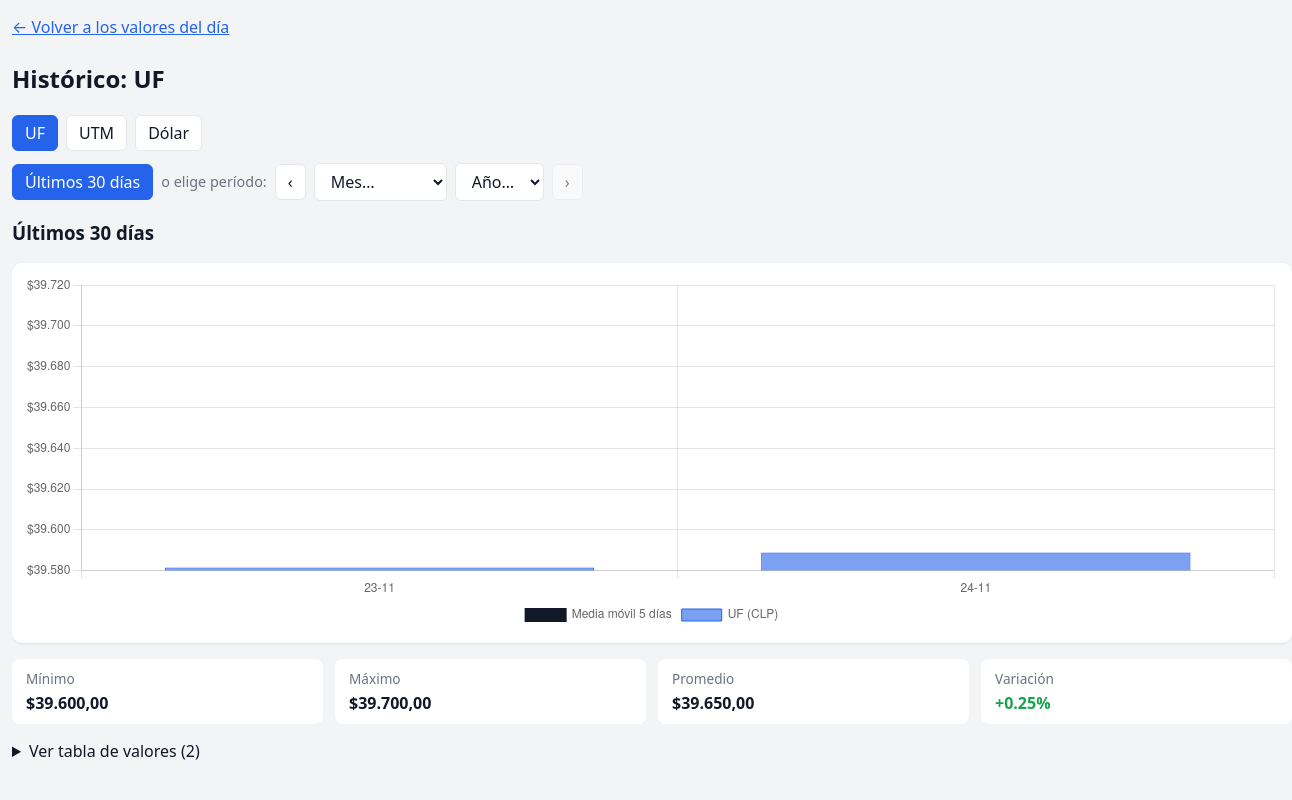
Scenario: HistoricoPage › cambia de mes y año y filtra la serie
expect the picture named "Gráfico de UF" is shown: met, box [12,263,1291,643]
Select "2025" in the dropdown named "Año": (499, 182) [455,163,544,201]
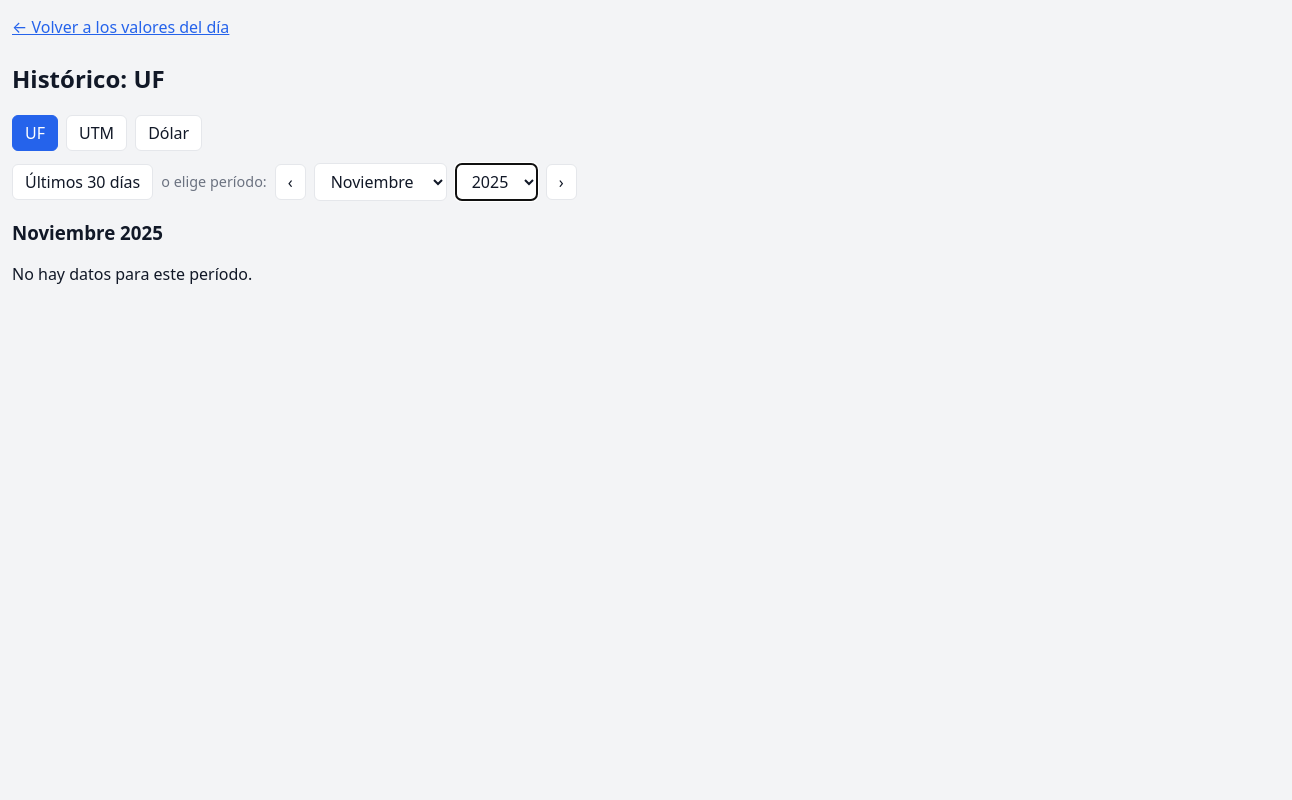
Select "Marzo" in the dropdown named "Mes": (380, 182) [314,163,447,201]
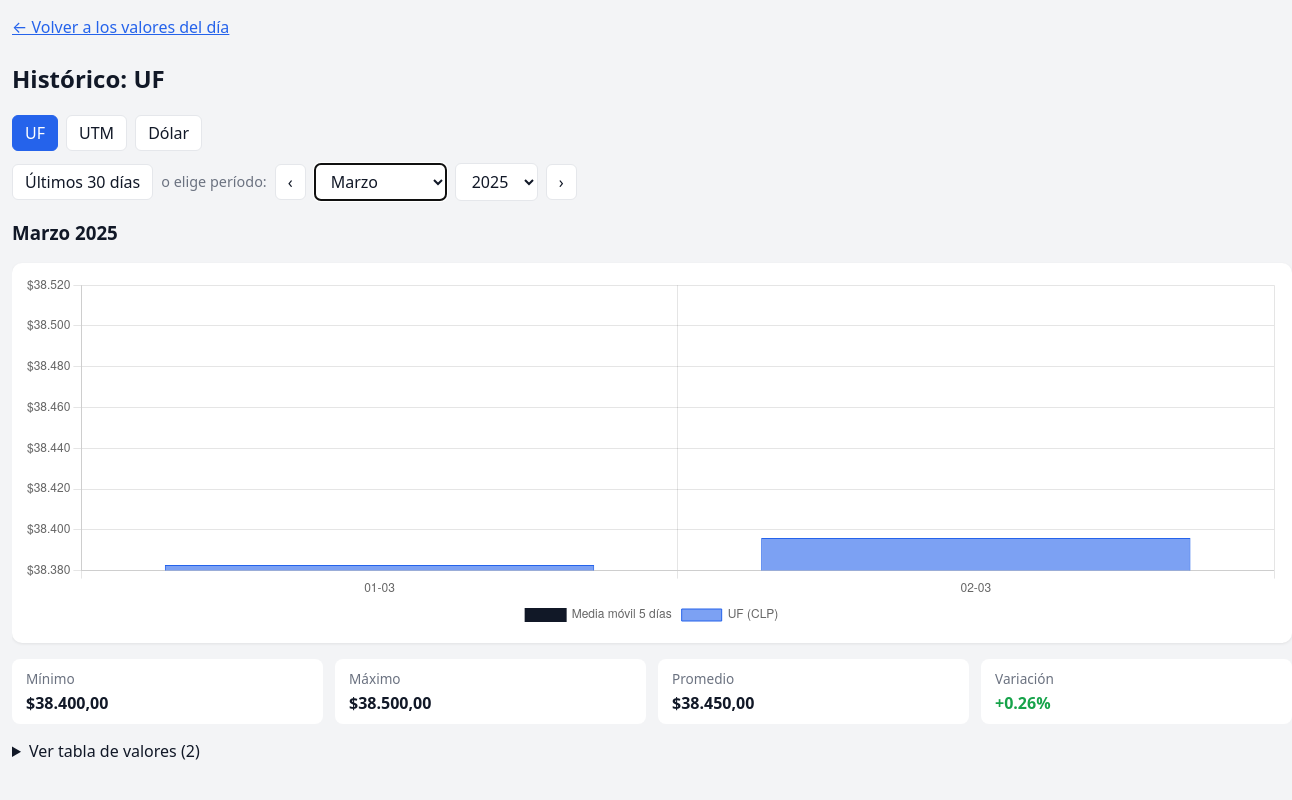
expect the heading "Marzo 2025" is shown: met, box [12,220,118,245]
Click the button named "Mes siguiente": (561, 182) [546,164,577,200]
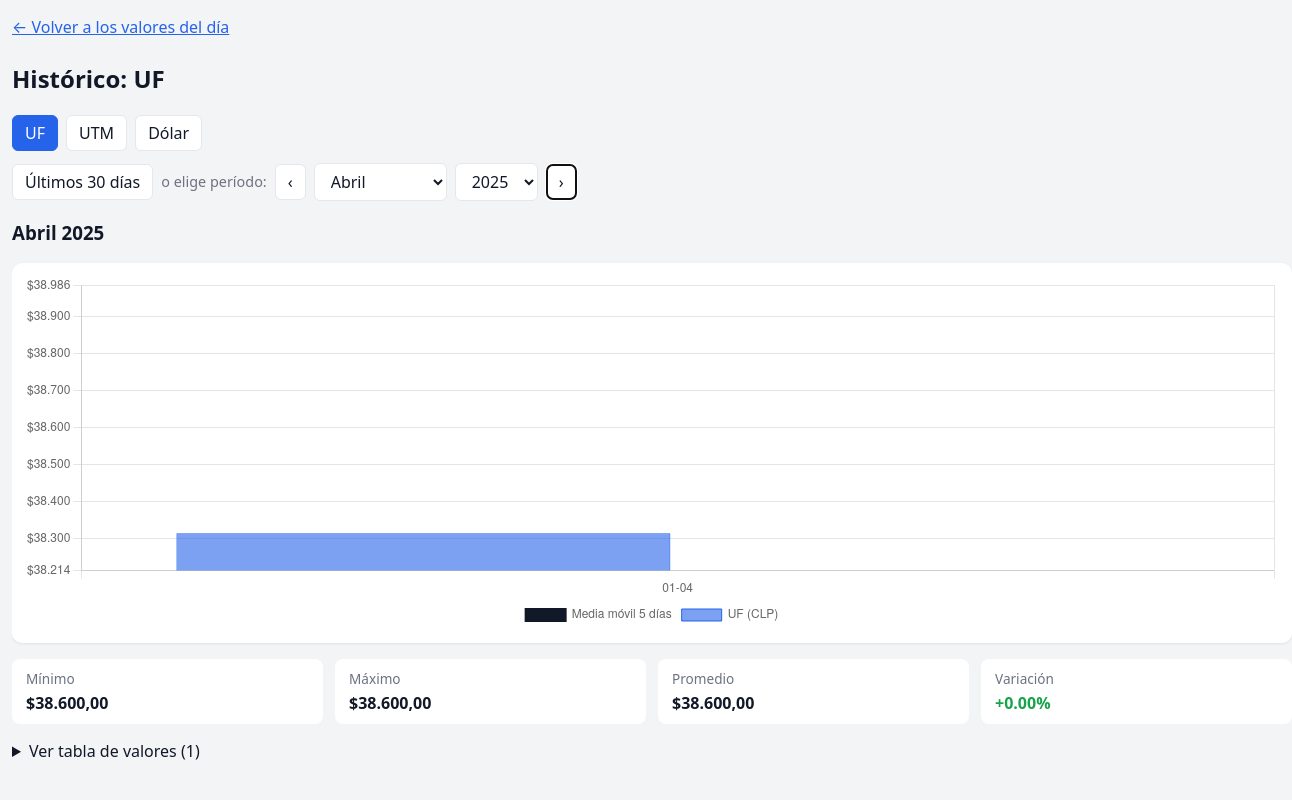
expect the heading "Abril 2025" is shown: met, box [12,220,104,245]
Click the button "Últimos 30 días": (83, 182) [12,164,153,200]
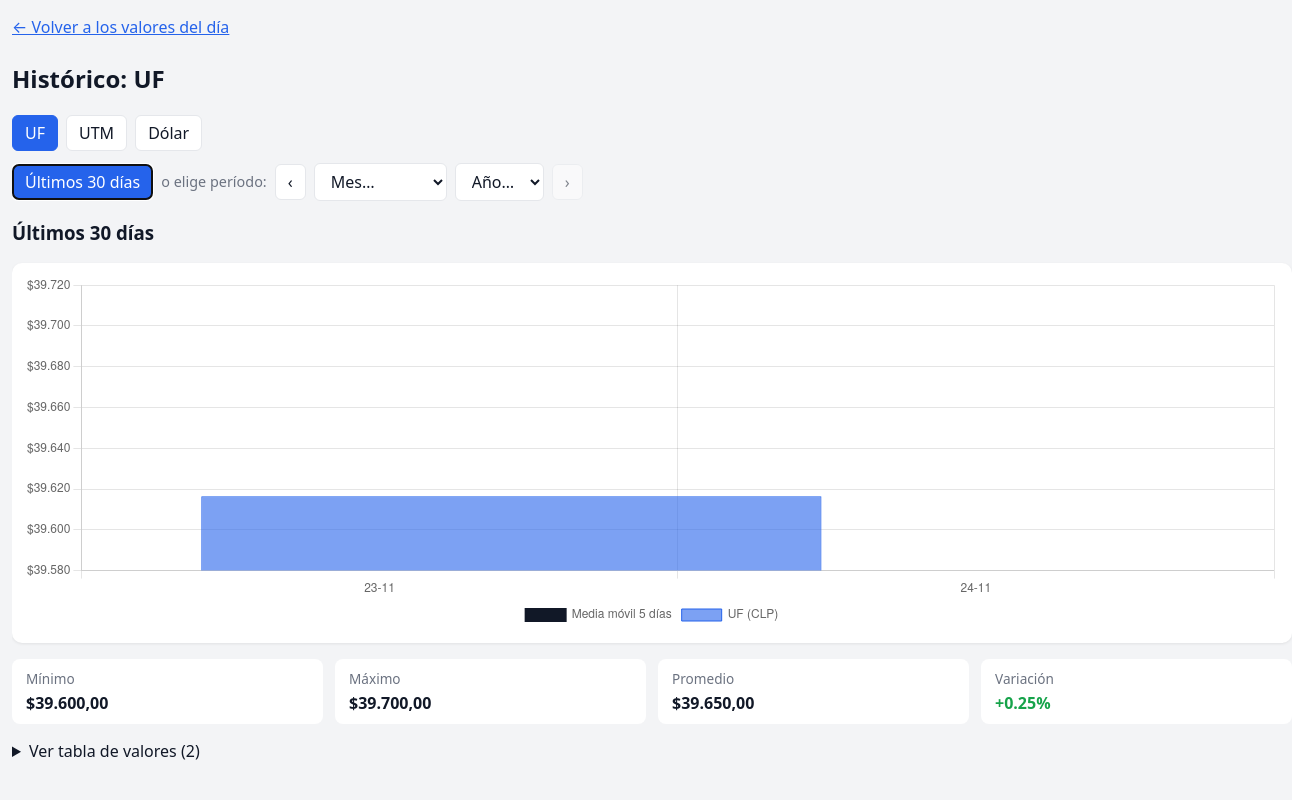
expect the heading "Últimos 30 días" is shown: met, box [12,220,154,245]
